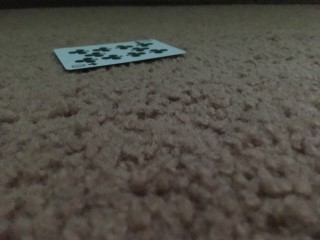TenOfClubs: (54, 38, 186, 70)
